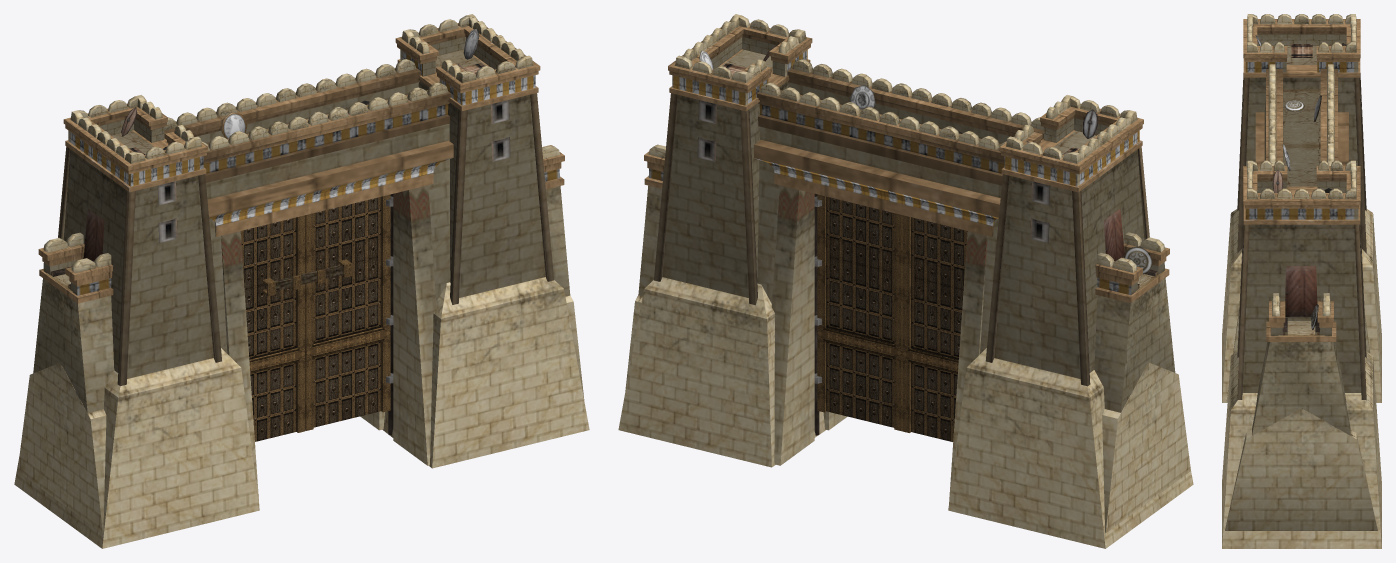
File: s_ptolemies_wall_gate.glb
The picture shows the model from 3 angles, left to right: view 1: azimuth 30°, elevation 25°; view 2: azimuth 150°, elevation 25°; view 3: azimuth 270°, elevation 25°; orthographic projection. The views are drawn at different scales.
Parts seen in each view (by area): view 1: s_ptolemies_wall_gate_part1, s_ptolemies_wall_gate_part0; view 2: s_ptolemies_wall_gate_part1, s_ptolemies_wall_gate_part0; view 3: s_ptolemies_wall_gate_part1.
Boxes of the visible parts, box(x1,y1,x2,y2) form: s_ptolemies_wall_gate_part1: box(14, 14, 589, 548); s_ptolemies_wall_gate_part0: box(240, 194, 390, 441); s_ptolemies_wall_gate_part1: box(618, 14, 1193, 548); s_ptolemies_wall_gate_part0: box(817, 194, 967, 441); s_ptolemies_wall_gate_part1: box(1222, 14, 1381, 548).
Bounding box in the file's own units: 9.82 × 7.14 × 3.05.
2 materials, 2 textured.
